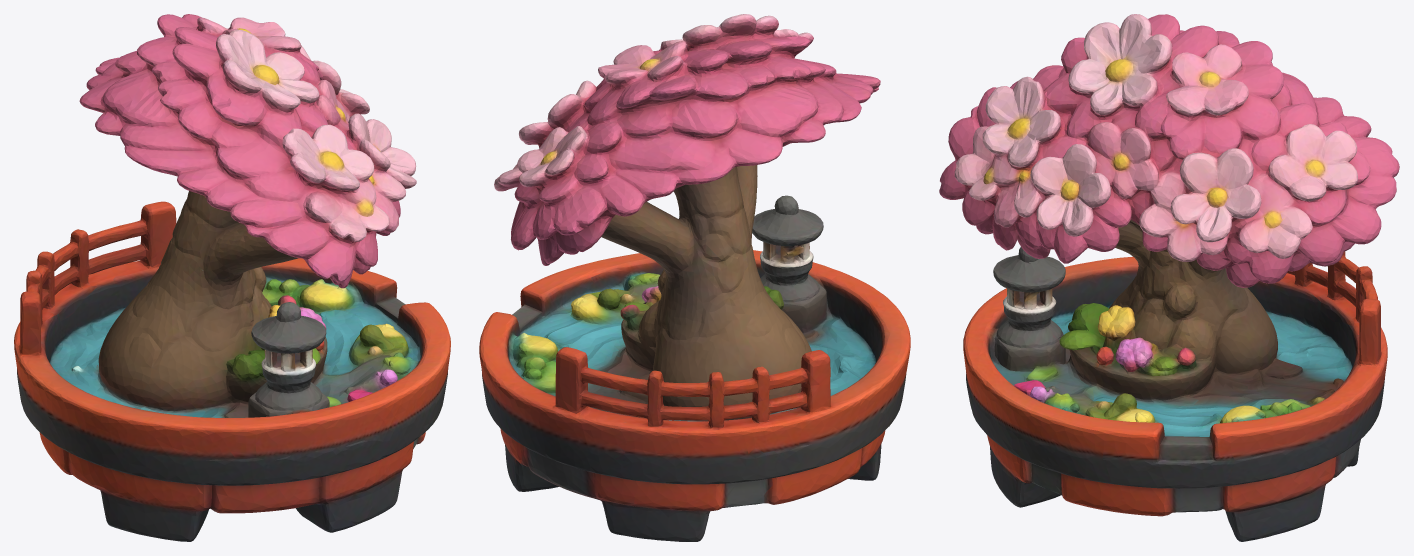
File: flower_10.glb
3 views of the same model, side by side, from view 1: azimuth 30°, elevation 25°; view 2: azimuth 150°, elevation 25°; view 3: azimuth 270°, elevation 25° (orthographic). The views are drawn at different scales.
Visible parts, largest first — view 1: tripo_node_8e9bcf88-b1de-4d58-b28b-c36dc35f9d3d; view 2: tripo_node_8e9bcf88-b1de-4d58-b28b-c36dc35f9d3d; view 3: tripo_node_8e9bcf88-b1de-4d58-b28b-c36dc35f9d3d.
Part boxes in pixels (<box>): tripo_node_8e9bcf88-b1de-4d58-b28b-c36dc35f9d3d: <box>14,14,450,541</box>; tripo_node_8e9bcf88-b1de-4d58-b28b-c36dc35f9d3d: <box>479,14,910,541</box>; tripo_node_8e9bcf88-b1de-4d58-b28b-c36dc35f9d3d: <box>939,14,1399,541</box>.
Bounding box in the file's own units: 0.8723 × 0.9998 × 0.9446.
1 material, 1 textured.
